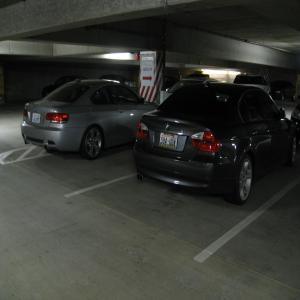Vehicle-registration-plate: (161, 133, 178, 151), (31, 114, 41, 125)
